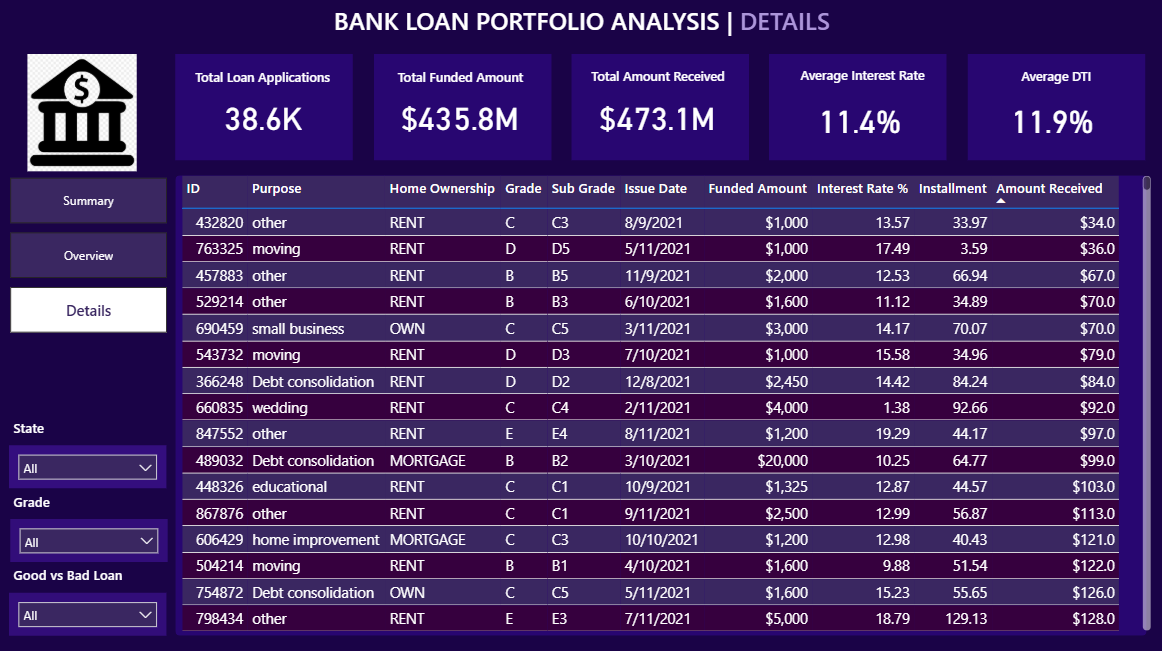

What the dashboard file says about the page in this screenshot:
{"tool":"powerbi","page":{"name":"Details","canvas":[1280,720],"ordinal":2},"visuals":[{"type":"textbox","box":[0,0,1280.3,59],"z":0},{"type":"shape","box":[193,60.3,194.9,116.6],"z":0,"group":"g5"},{"type":"shape","box":[411.3,60.3,194.9,116.6],"z":0,"group":"g1"},{"type":"shape","box":[627.8,60.4,194.9,116.6],"z":0,"group":"g2"},{"type":"shape","box":[845.6,60.4,194.9,116.6],"z":0,"group":"g3"},{"type":"shape","box":[1063.5,60.4,194.9,116.6],"z":0,"group":"g4"},{"type":"textbox","box":[0,59.1,191.8,661.1],"z":1000},{"type":"cardVisual","fields":{"Data":["financial_loan.Total Loan Applications"]},"box":[194.1,97.2,191.8,65.1],"z":1000,"group":"g5"},{"type":"cardVisual","fields":{"Data":["financial_loan.Total Funded Amount"]},"box":[410.2,97.2,191.8,65.1],"z":1000,"group":"g1"},{"type":"cardVisual","fields":{"Data":["financial_loan.Total Amount Received"]},"box":[626.8,97.3,191.8,65.1],"z":1000,"group":"g2"},{"type":"cardVisual","fields":{"Data":["financial_loan.Avg Interest Rate"]},"box":[849.7,99.8,191.8,65.1],"z":1000,"group":"g3"},{"type":"cardVisual","fields":{"Data":["financial_loan.Avg DTI"]},"box":[1060.5,99.8,191.8,65.1],"z":1000,"group":"g4"},{"type":"textbox","box":[866.6,68.4,164.1,32.6],"z":2000,"group":"g3"},{"type":"textbox","box":[640.3,69.6,165.3,32.6],"z":2000,"group":"g2"},{"type":"textbox","box":[1078,69.6,164.1,32.6],"z":2000,"group":"g4"},{"type":"textbox","box":[206.2,70.8,164.1,32.6],"z":2000,"group":"g5"},{"type":"textbox","box":[424.4,70.8,165.3,32.6],"z":2000,"group":"g1"},{"type":"slicer","fields":{"Values":["financial_loan.address_state"]},"box":[10.6,490,172.5,47.1],"z":2000},{"type":"textbox","box":[10.6,456.3,56.7,33.8],"z":3000},{"type":"textbox","box":[10.6,537.1,68.8,33.8],"z":4000},{"type":"slicer","fields":{"Values":["financial_loan.grade"]},"box":[11.8,570.9,172.5,47.1],"z":5000},{"type":"slicer","fields":{"Values":["financial_loan.Good vs Bad Loan"]},"box":[10.6,651.7,172.5,47.1],"z":6000},{"type":"textbox","box":[10.6,617.9,172.5,33.8],"z":7000},{"type":"shape","box":[193,193,1066.5,505.5],"z":8000},{"type":"tableEx","fields":{"Values":["financial_loan.id","financial_loan.purpose","financial_loan.home_ownership","financial_loan.grade","financial_loan.sub_grade","financial_loan.issue_date","financial_loan.Total Funded Amount","financial_loan.Interest Rate %","financial_loan.Installment Corrected","financial_loan.Total Amount Received"]},"box":[194.2,189.4,1074.9,509.1],"z":9000},{"type":"pageNavigator","box":[12.1,196.6,172.5,172.5],"z":10000},{"type":"image","box":[0,60.3,182.2,129.1],"z":11000},{"type":"group","id":"g1","title":"Group 1","box":[410.2,60.3,196,116.6],"z":12000},{"type":"group","id":"g2","title":"Group 1","box":[626.8,60.4,195.8,116.6],"z":13000},{"type":"group","id":"g3","title":"Group 1","box":[845.6,60.4,195.9,116.6],"z":14000},{"type":"group","id":"g4","title":"Group 1","box":[1060.5,60.4,197.8,116.6],"z":15000},{"type":"group","id":"g5","title":"Group 1","box":[193,60.3,194.9,116.6],"z":16000}]}

Visuals, with their boxes in screenshot pixels (x1, y1, x2, y2), scaled from the page's 1280x720 canvas onto the 1162x651 screenshot:
textbox: bbox=(0, 0, 1161, 53)
shape: bbox=(175, 55, 352, 160)
shape: bbox=(373, 55, 550, 160)
shape: bbox=(570, 55, 747, 160)
shape: bbox=(768, 55, 945, 160)
shape: bbox=(965, 55, 1142, 160)
textbox: bbox=(0, 53, 174, 650)
cardVisual - financial_loan.Total Loan Applications: bbox=(176, 88, 350, 147)
cardVisual - financial_loan.Total Funded Amount: bbox=(372, 88, 547, 147)
cardVisual - financial_loan.Total Amount Received: bbox=(569, 88, 743, 147)
cardVisual - financial_loan.Avg Interest Rate: bbox=(771, 90, 945, 149)
cardVisual - financial_loan.Avg DTI: bbox=(963, 90, 1137, 149)
textbox: bbox=(787, 62, 936, 91)
textbox: bbox=(581, 63, 731, 92)
textbox: bbox=(979, 63, 1128, 92)
textbox: bbox=(187, 64, 336, 93)
textbox: bbox=(385, 64, 535, 93)
slicer - financial_loan.address_state: bbox=(10, 443, 166, 486)
textbox: bbox=(10, 413, 61, 443)
textbox: bbox=(10, 486, 72, 516)
slicer - financial_loan.grade: bbox=(11, 516, 167, 559)
slicer - financial_loan.Good vs Bad Loan: bbox=(10, 589, 166, 632)
textbox: bbox=(10, 559, 166, 589)
shape: bbox=(175, 175, 1143, 632)
tableEx - financial_loan.id x financial_loan.purpose: bbox=(176, 171, 1152, 632)
pageNavigator: bbox=(11, 178, 168, 334)
image: bbox=(0, 55, 165, 171)
"Group 1" group: bbox=(372, 55, 550, 160)
"Group 1" group: bbox=(569, 55, 747, 160)
"Group 1" group: bbox=(768, 55, 945, 160)
"Group 1" group: bbox=(963, 55, 1142, 160)
"Group 1" group: bbox=(175, 55, 352, 160)
